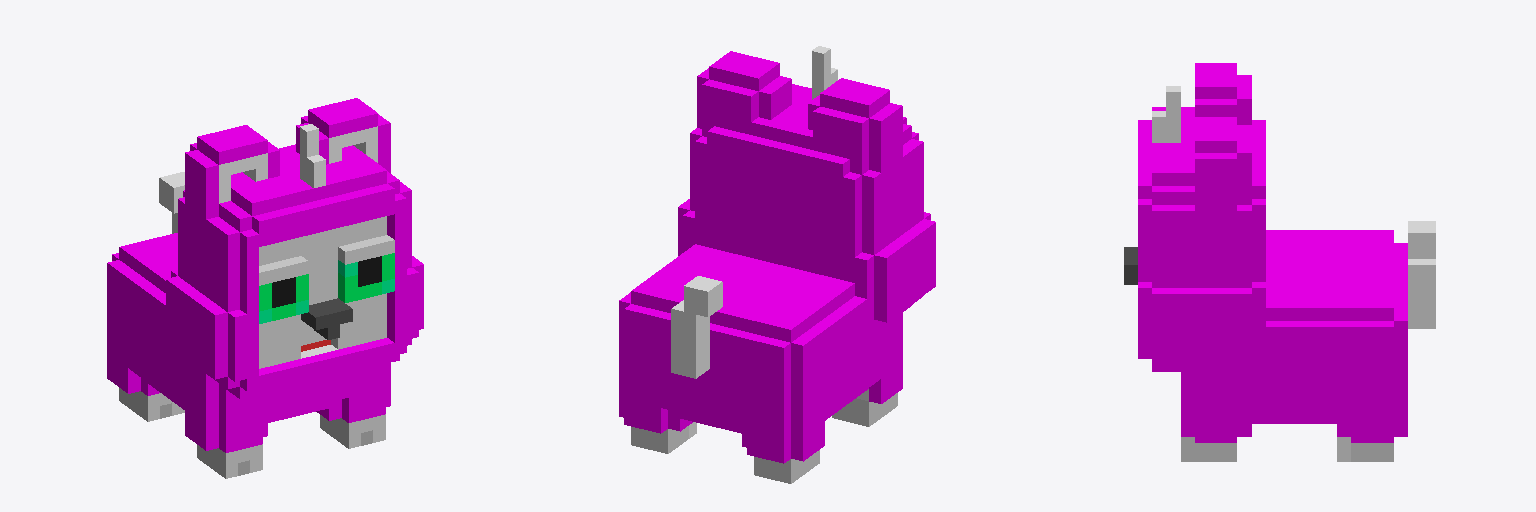
3 renders of one model, left to right at view 1: azimuth 30°, elevation 25°; view 2: azimuth 150°, elevation 25°; view 3: azimuth 270°, elevation 25°, orthographic.
Visible parts, largest first — view 1: object 1; view 2: object 1; view 3: object 1.
Part boxes in pixels (x1,y1,x2,y2): object 1: (107, 98, 423, 478); object 1: (619, 46, 935, 483); object 1: (1124, 63, 1435, 461).
Bounding box in the file's own units: 1.7 × 2.6 × 2.2.
Materials: 1 (1 with a texture image).